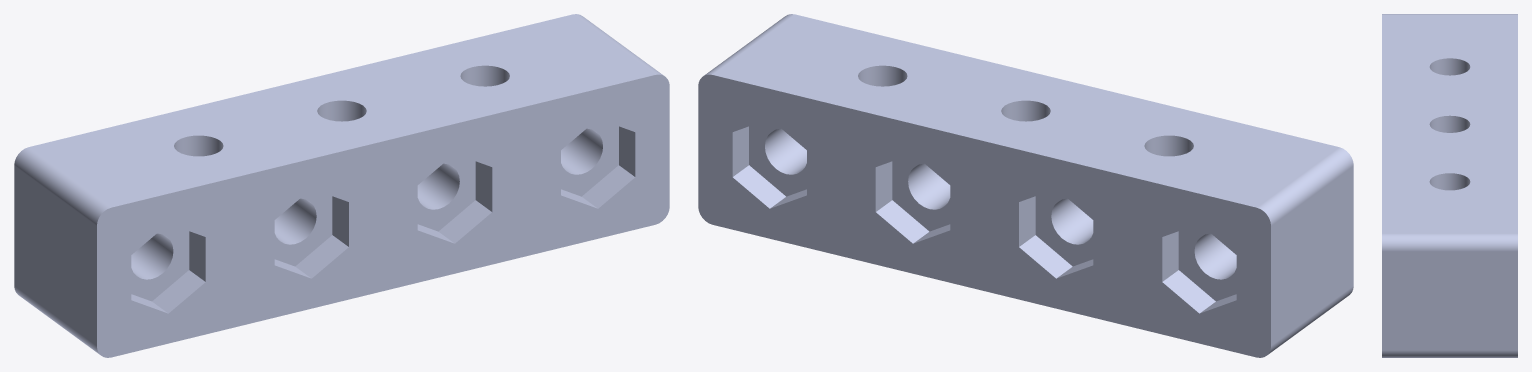
The picture shows the model from 3 angles, left to right: view 1: azimuth 30°, elevation 25°; view 2: azimuth 150°, elevation 25°; view 3: azimuth 270°, elevation 25°; orthographic projection. The views are drawn at different scales.
Parts seen in each view (by area): view 1: I4; view 2: I4; view 3: I4.
Part boxes in pixels (x1,y1,x2,y2): I4: (14, 14, 669, 357); I4: (698, 14, 1353, 357); I4: (1382, 14, 1517, 357).
Size of the model in its own units: 0.04 by 0.01 by 0.01.
